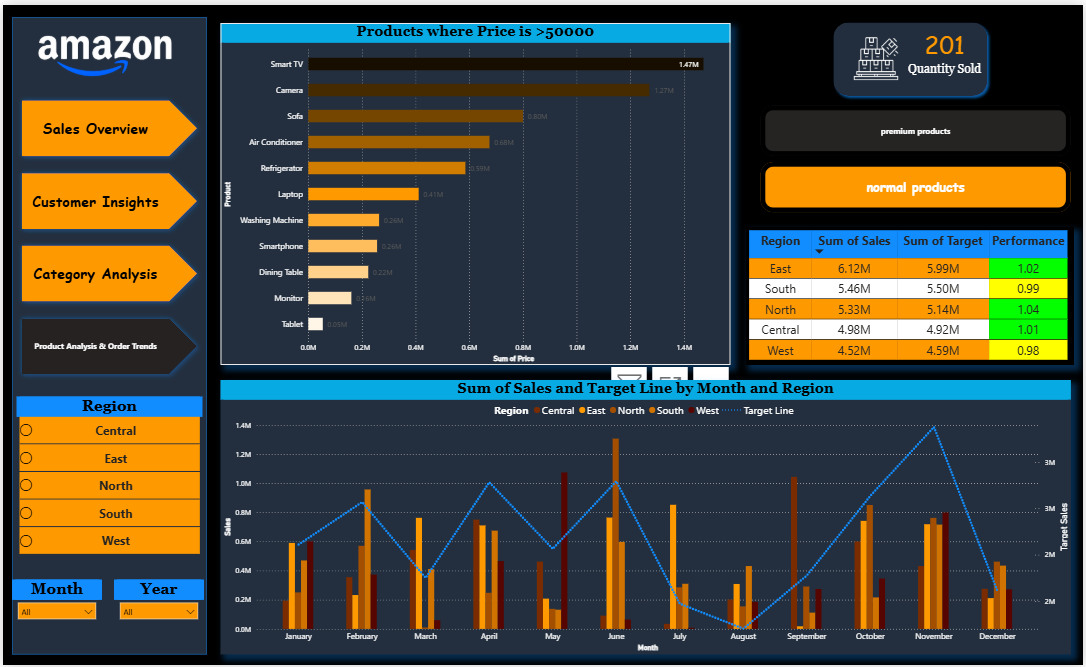

Layout of this report page (visuals, bound fields, positions):
{"tool":"powerbi","page":{"name":"Product Analysis & Order Trends","canvas":[1800,1100],"ordinal":3},"visuals":[{"type":"shape","box":[15,20,325,1062.5],"z":0},{"type":"image","box":[0,20,340,130],"z":1000},{"type":"shape","box":[1375,20,274.6,140.6],"z":1000,"group":"g2"},{"type":"clusteredBarChart","title":"Products where Price is >50000","fields":{"Category":["Amazon_Sales.Product"],"Y":["Sum(Amazon_Sales.Price)"]},"box":[362.5,30,850,570],"z":2000},{"type":"image","box":[1399,52.8,110,73.8],"z":3000,"group":"g2"},{"type":"bookmarkNavigator","box":[1262.5,167.5,517.5,178.8],"z":3000},{"type":"group","id":"g1","title":"Group 2","box":[1375,20,277.5,140],"z":4000},{"type":"slicer","title":"Year","fields":{"Values":["Amazon_Sales.Date.Variation.Date Hierarchy.Year"]},"box":[183.8,957.5,150,70],"z":5000},{"type":"pageNavigator","box":[22.5,150,310,475],"z":6000},{"type":"listSlicer","fields":{"Values":["Amazon_Sales.Region"]},"box":[22.5,715,310,225],"z":7000},{"type":"slicer","title":"Month","fields":{"Values":["Amazon_Sales.Date.Variation.Date Hierarchy.Month"]},"box":[15,957.5,150,70],"z":8000},{"type":"lineClusteredColumnComboChart","fields":{"Y":["Sum(Amazon_Sales.Sales)"],"Y2":["Sum(Amazon_Sales.Target)"],"Series":["Amazon_Sales.Region"],"Category":["Amazon_Sales.Date.Variation.Date Hierarchy.Month"]},"box":[362.5,625,1417.5,457.5],"z":9000},{"type":"tableEx","fields":{"Values":["Amazon_Sales.Region","Sum(Amazon_Sales.Sales)","Sum(Amazon_Sales.Target)","Amazon_Sales.Performance"]},"box":[1243.3,400,538.3,200],"z":10000},{"type":"group","id":"g2","title":"Group 1","box":[1375,20,276,140],"z":13000,"group":"g1"},{"type":"card","fields":{"Values":["Sum(Amazon_Sales.Quantity)"]},"box":[1484,28,168,98],"z":13500,"group":"g1"}]}

Visuals, with their boxes in screenshot pixels (x1, y1, x2, y2), scaled from the page's 1800x1100 canvas onto the 1086x667 screenshot:
shape: {"left": 9, "top": 12, "right": 205, "bottom": 656}
image: {"left": 0, "top": 12, "right": 205, "bottom": 91}
shape: {"left": 830, "top": 12, "right": 995, "bottom": 97}
"Products where Price is >50000" clusteredBarChart: {"left": 219, "top": 18, "right": 732, "bottom": 364}
image: {"left": 844, "top": 32, "right": 910, "bottom": 77}
bookmarkNavigator: {"left": 762, "top": 102, "right": 1074, "bottom": 210}
"Group 2" group: {"left": 830, "top": 12, "right": 997, "bottom": 97}
"Year" slicer: {"left": 111, "top": 581, "right": 201, "bottom": 623}
pageNavigator: {"left": 14, "top": 91, "right": 201, "bottom": 379}
listSlicer - Amazon_Sales.Region: {"left": 14, "top": 434, "right": 201, "bottom": 570}
"Month" slicer: {"left": 9, "top": 581, "right": 100, "bottom": 623}
lineClusteredColumnComboChart - Sum(Amazon_Sales.Sales) x Sum(Amazon_Sales.Target): {"left": 219, "top": 379, "right": 1074, "bottom": 656}
tableEx - Amazon_Sales.Region x Sum(Amazon_Sales.Sales): {"left": 750, "top": 243, "right": 1075, "bottom": 364}
"Group 1" group: {"left": 830, "top": 12, "right": 996, "bottom": 97}
card - Sum(Amazon_Sales.Quantity): {"left": 895, "top": 17, "right": 997, "bottom": 76}
